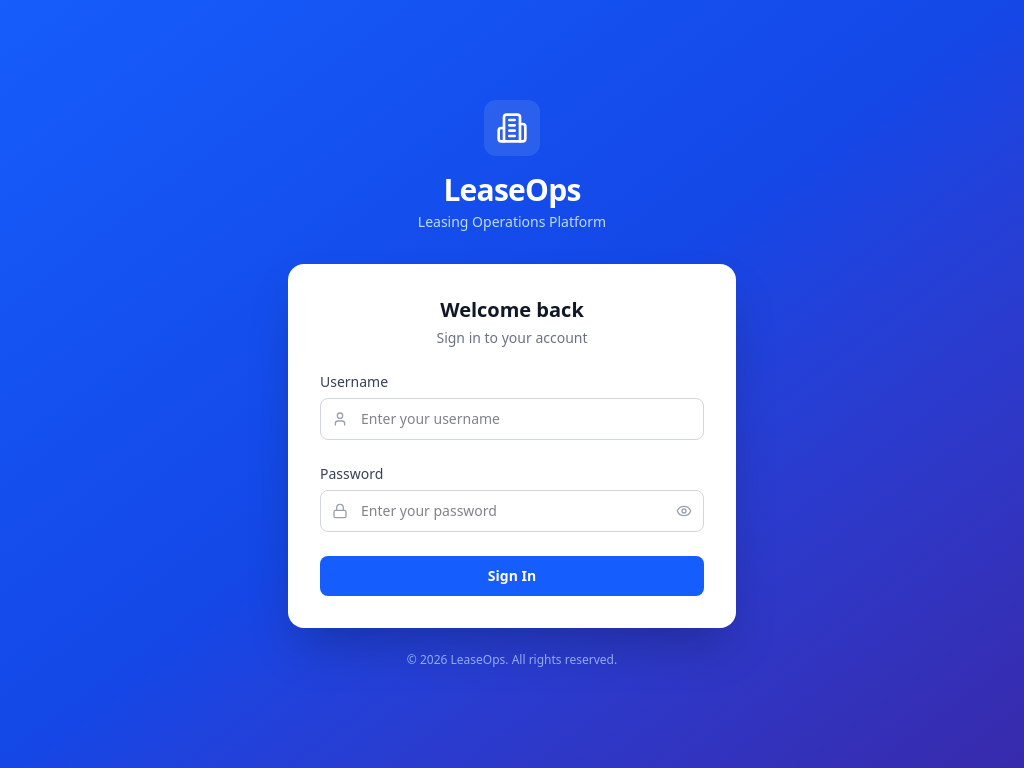
it: views/auth/LoginView.vue › falls back to a generic message when no server message is present
Type "admin" into the field with id "username". click: (512, 419)
box: [320,398,704,440]
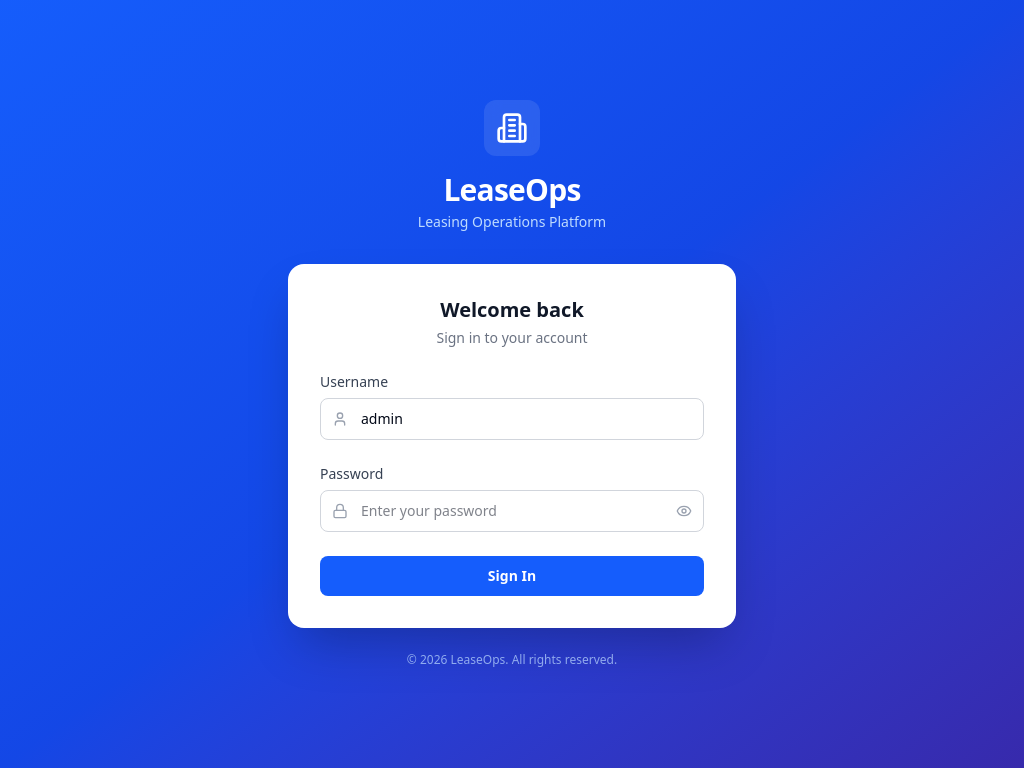
Type "x" into the password field labelled "Password". click: (512, 511)
box: [320,490,704,532]
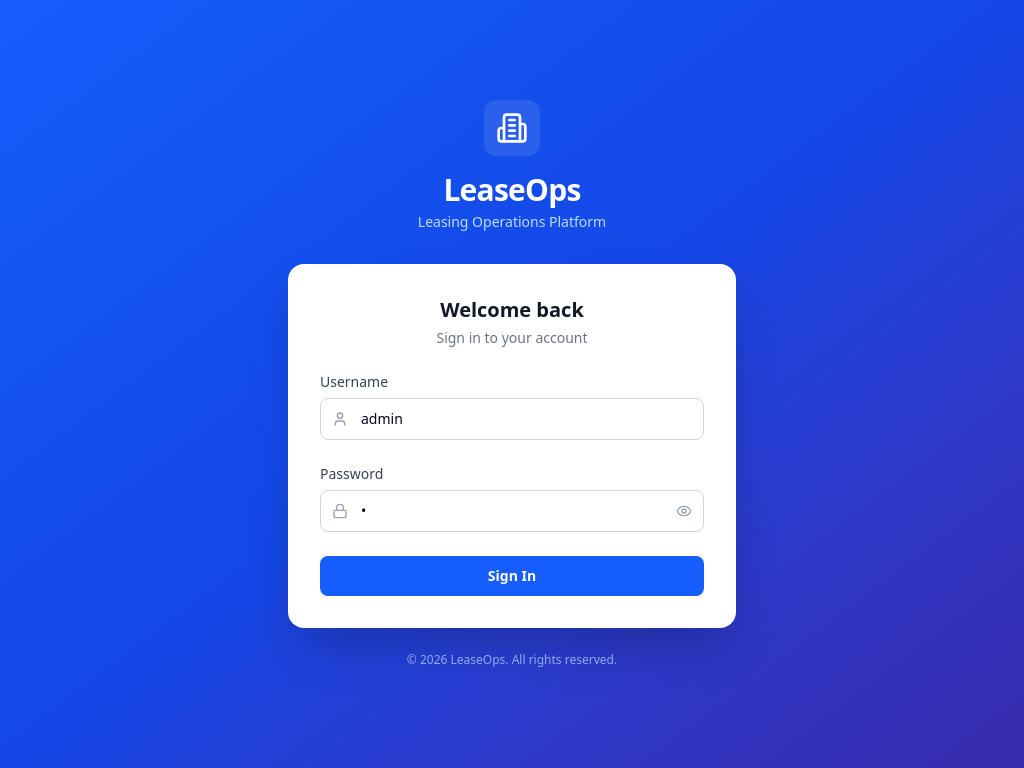
Submit the form, box [288,264,736,628]
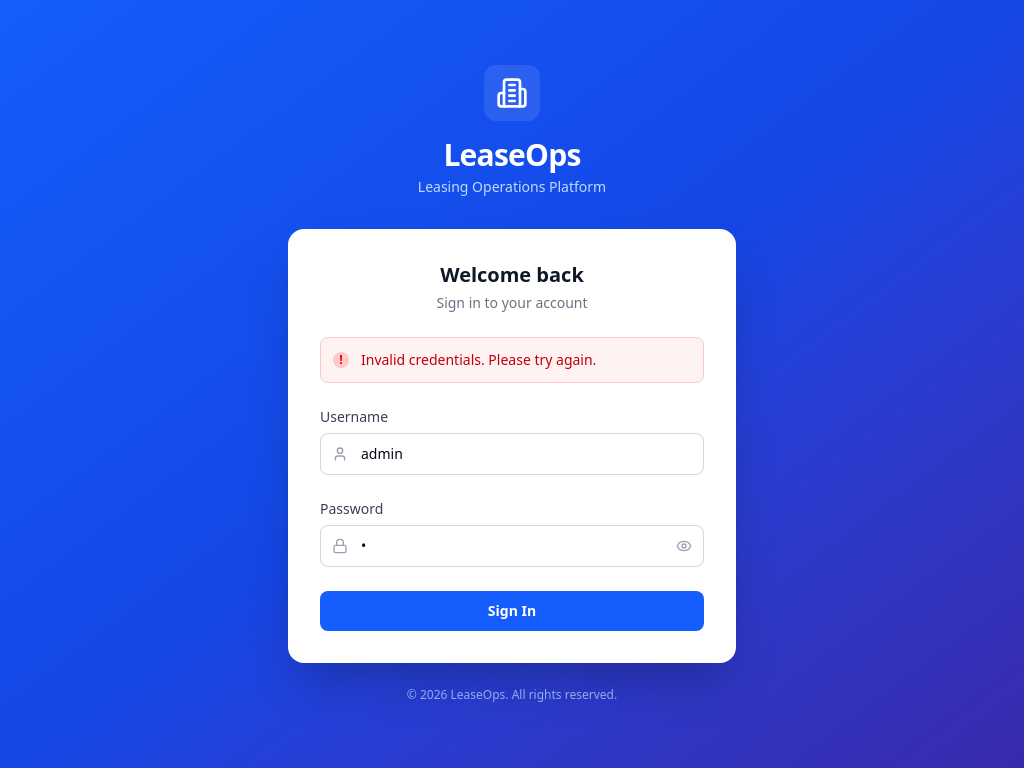
Expected: the text "Invalid credentials. Please try again." is shown, [361,350,596,370]
